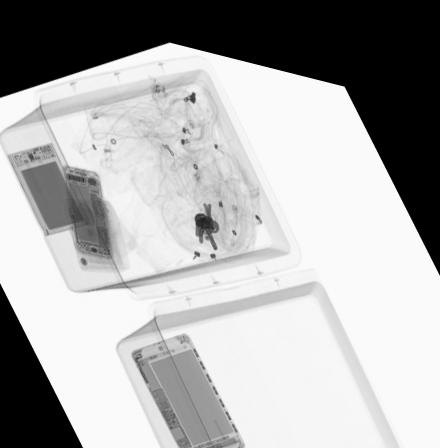Powerbank: (4, 139, 88, 232)
